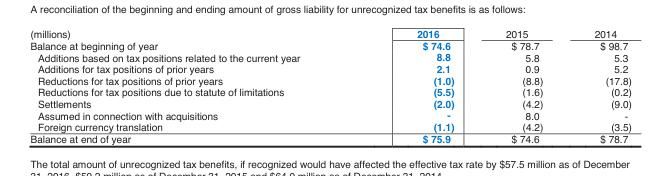table: (29, 28, 630, 144)
table column: (29, 28, 357, 144), (357, 28, 479, 144), (479, 28, 567, 144), (567, 28, 630, 144)
table column header: (29, 28, 630, 40)
table row: (29, 28, 630, 40), (29, 40, 630, 52), (29, 63, 630, 75), (29, 86, 630, 98), (29, 98, 630, 110), (29, 121, 630, 133), (29, 52, 630, 63), (29, 75, 630, 86), (29, 110, 630, 121), (29, 133, 630, 144)
